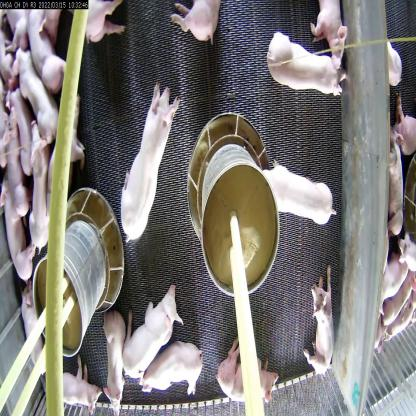Pig: (119, 80, 177, 246), (257, 148, 337, 231), (263, 24, 342, 100), (117, 287, 179, 377), (13, 42, 58, 146), (45, 92, 85, 208), (214, 339, 278, 411), (20, 119, 52, 253), (140, 339, 208, 399), (303, 261, 338, 377), (1, 168, 34, 283), (21, 10, 69, 88), (100, 304, 132, 411), (18, 292, 50, 388), (48, 359, 102, 415), (170, 0, 232, 48), (311, 0, 350, 67), (75, 0, 128, 44)
